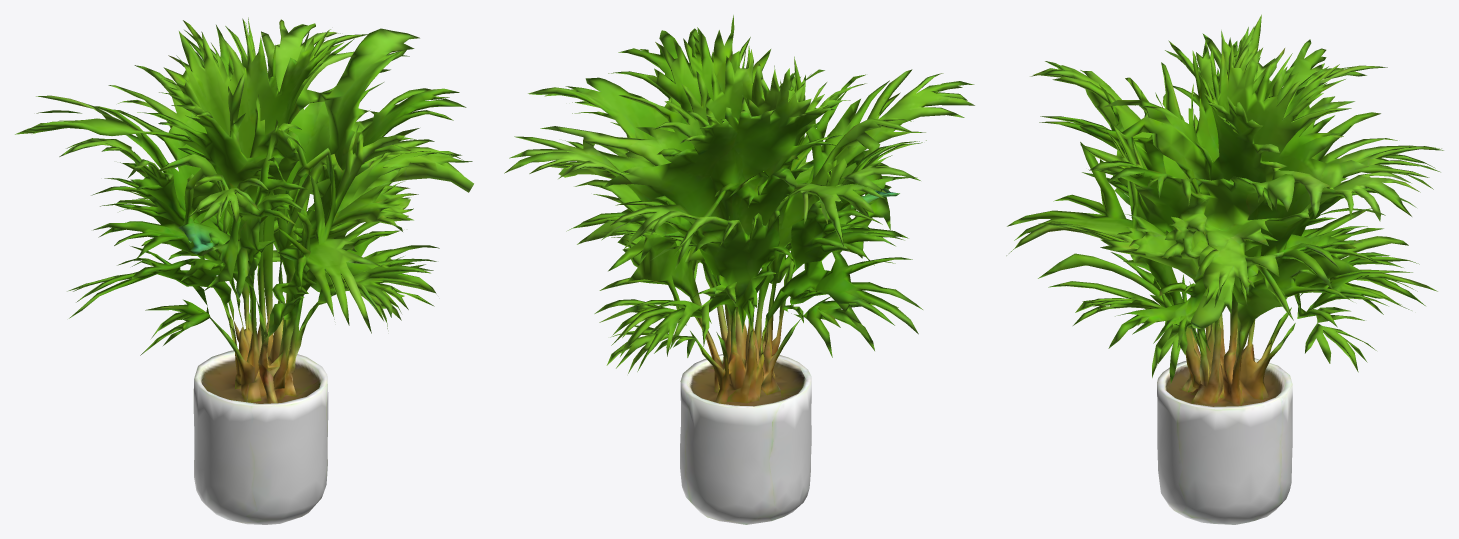
Rendered from 10_palm_plant.glb.
3 renders of one model, left to right at view 1: azimuth 30°, elevation 25°; view 2: azimuth 150°, elevation 25°; view 3: azimuth 270°, elevation 25°, orthographic. The views are drawn at different scales.
Parts seen in each view (by area): view 1: geometry_0; view 2: geometry_0; view 3: geometry_0.
Boxes of the visible parts, <box> form: geometry_0: <box>15,17,473,524</box>; geometry_0: <box>504,15,974,524</box>; geometry_0: <box>1006,14,1443,524</box>.
Size of the model in its own units: 1.57 by 1.83 by 1.56.
Materials: 1 (1 with a texture image).
